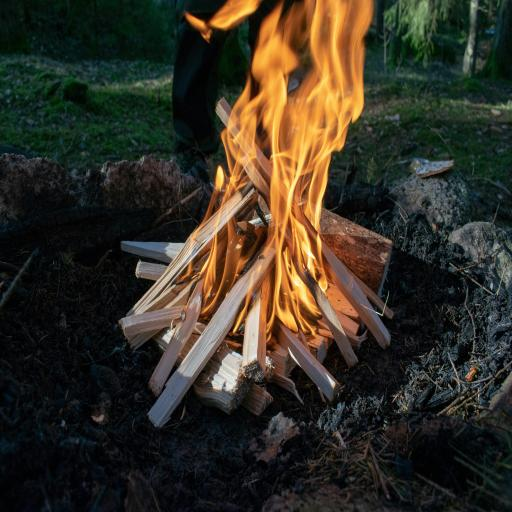campfire: (140, 0, 418, 403)
